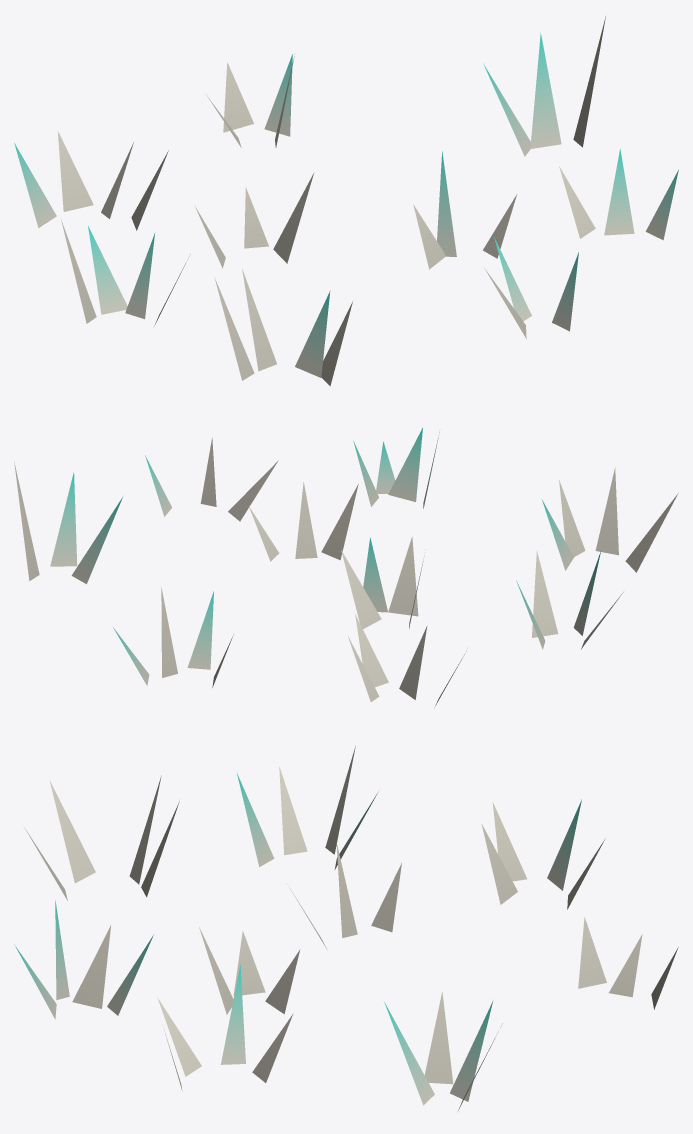
The model's file is grass_meadow_straw_lod2.glb.
The picture shows the model from 3 angles, top to bottom: view 1: azimuth 30°, elevation 25°; view 2: azimuth 150°, elevation 25°; view 3: azimuth 270°, elevation 25°; orthographic projection. The views are drawn at different scales.
Parts seen in each view (by area): view 1: grass_meadow_straw_LOD2; view 2: grass_meadow_straw_LOD2; view 3: grass_meadow_straw_LOD2.
Part boxes in pixels (box(x1,y1,x2,y2)): grass_meadow_straw_LOD2: box(14, 16, 678, 386); grass_meadow_straw_LOD2: box(14, 427, 678, 707); grass_meadow_straw_LOD2: box(14, 745, 678, 1110).
Bounding box in the file's own units: 4.33 × 0.8519 × 4.07.
